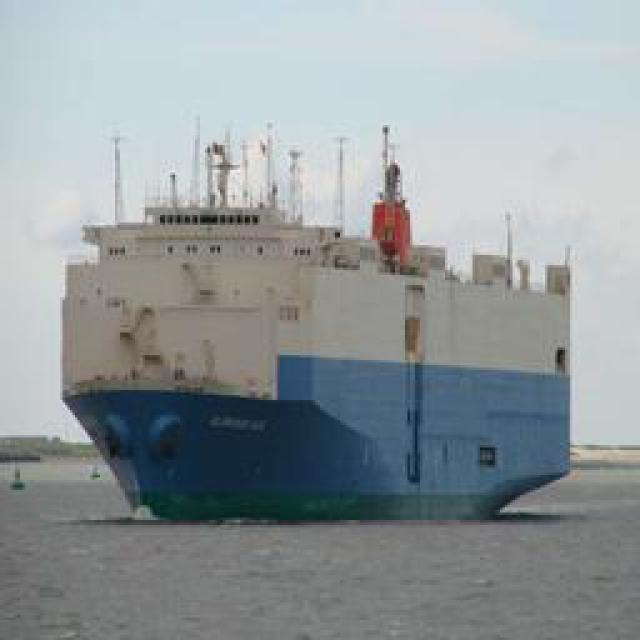Ship: (58, 114, 573, 527)
